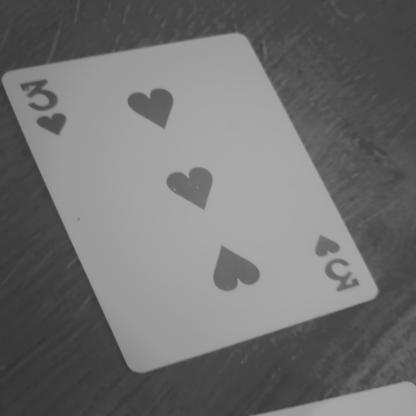3H: (15, 73, 82, 145), (307, 228, 372, 302)
